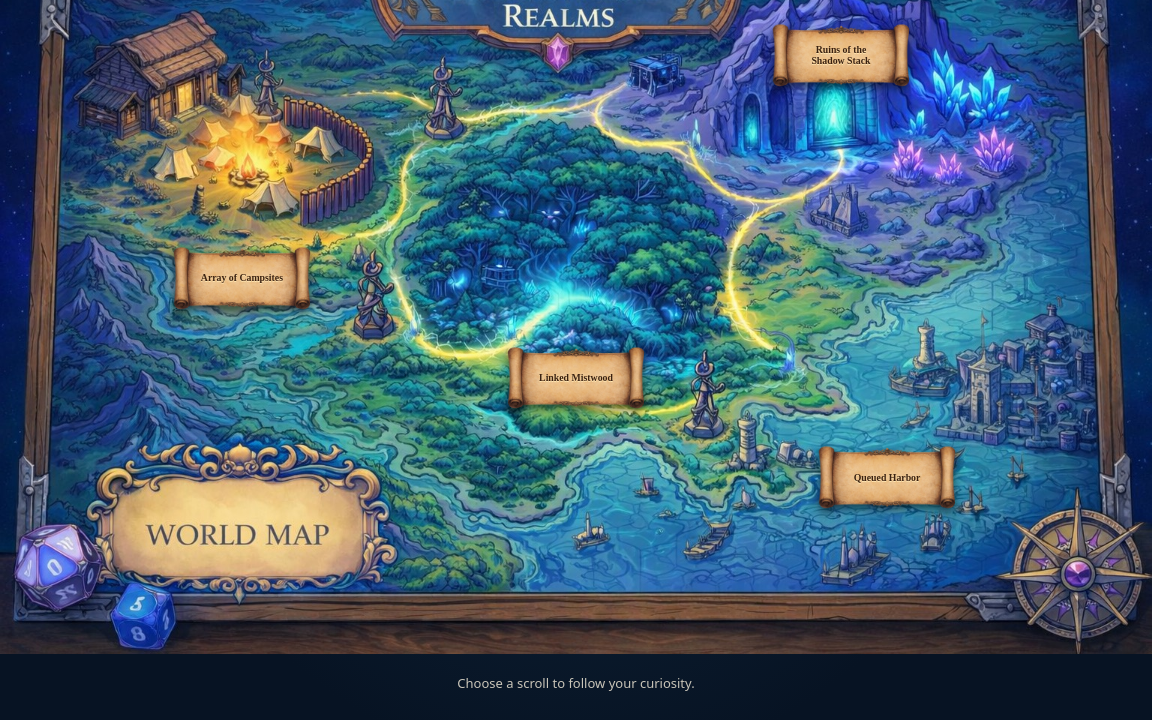
Test: App › opens Queue independently from the map with later rooms locked
The image size is (1152, 720).
(page scrolled)
Click the button with aria-label "Harbor Pier · Queue".
click(887, 477)  # box x1=818 y1=446 x2=956 y2=509
(page scrolled)
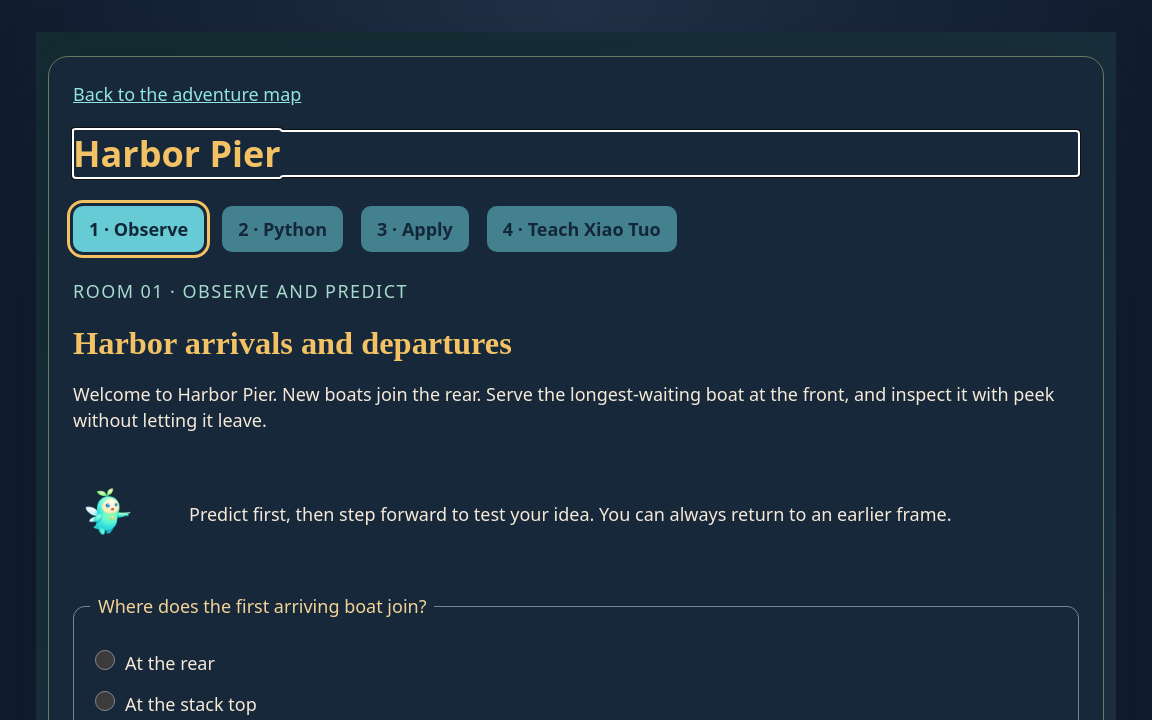
expect the heading "Harbor arrivals and departures" is shown: met, box x1=73 y1=324 x2=512 y2=360
expect the button "2 · Python" is disabled: met, box x1=222 y1=206 x2=343 y2=252
expect the button "4 · Teach Xiao Tuo" is disabled: met, box x1=487 y1=206 x2=677 y2=252
